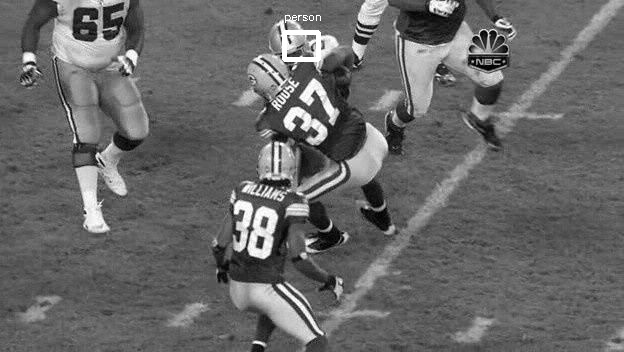person: (273, 29, 307, 73), (272, 29, 306, 73), (274, 29, 308, 73), (273, 28, 307, 72), (273, 30, 307, 74)
target_negative: (44, 87, 603, 209), (147, 254, 595, 350), (161, 204, 615, 290), (238, 245, 517, 344), (64, 77, 462, 99), (333, 178, 490, 219)
